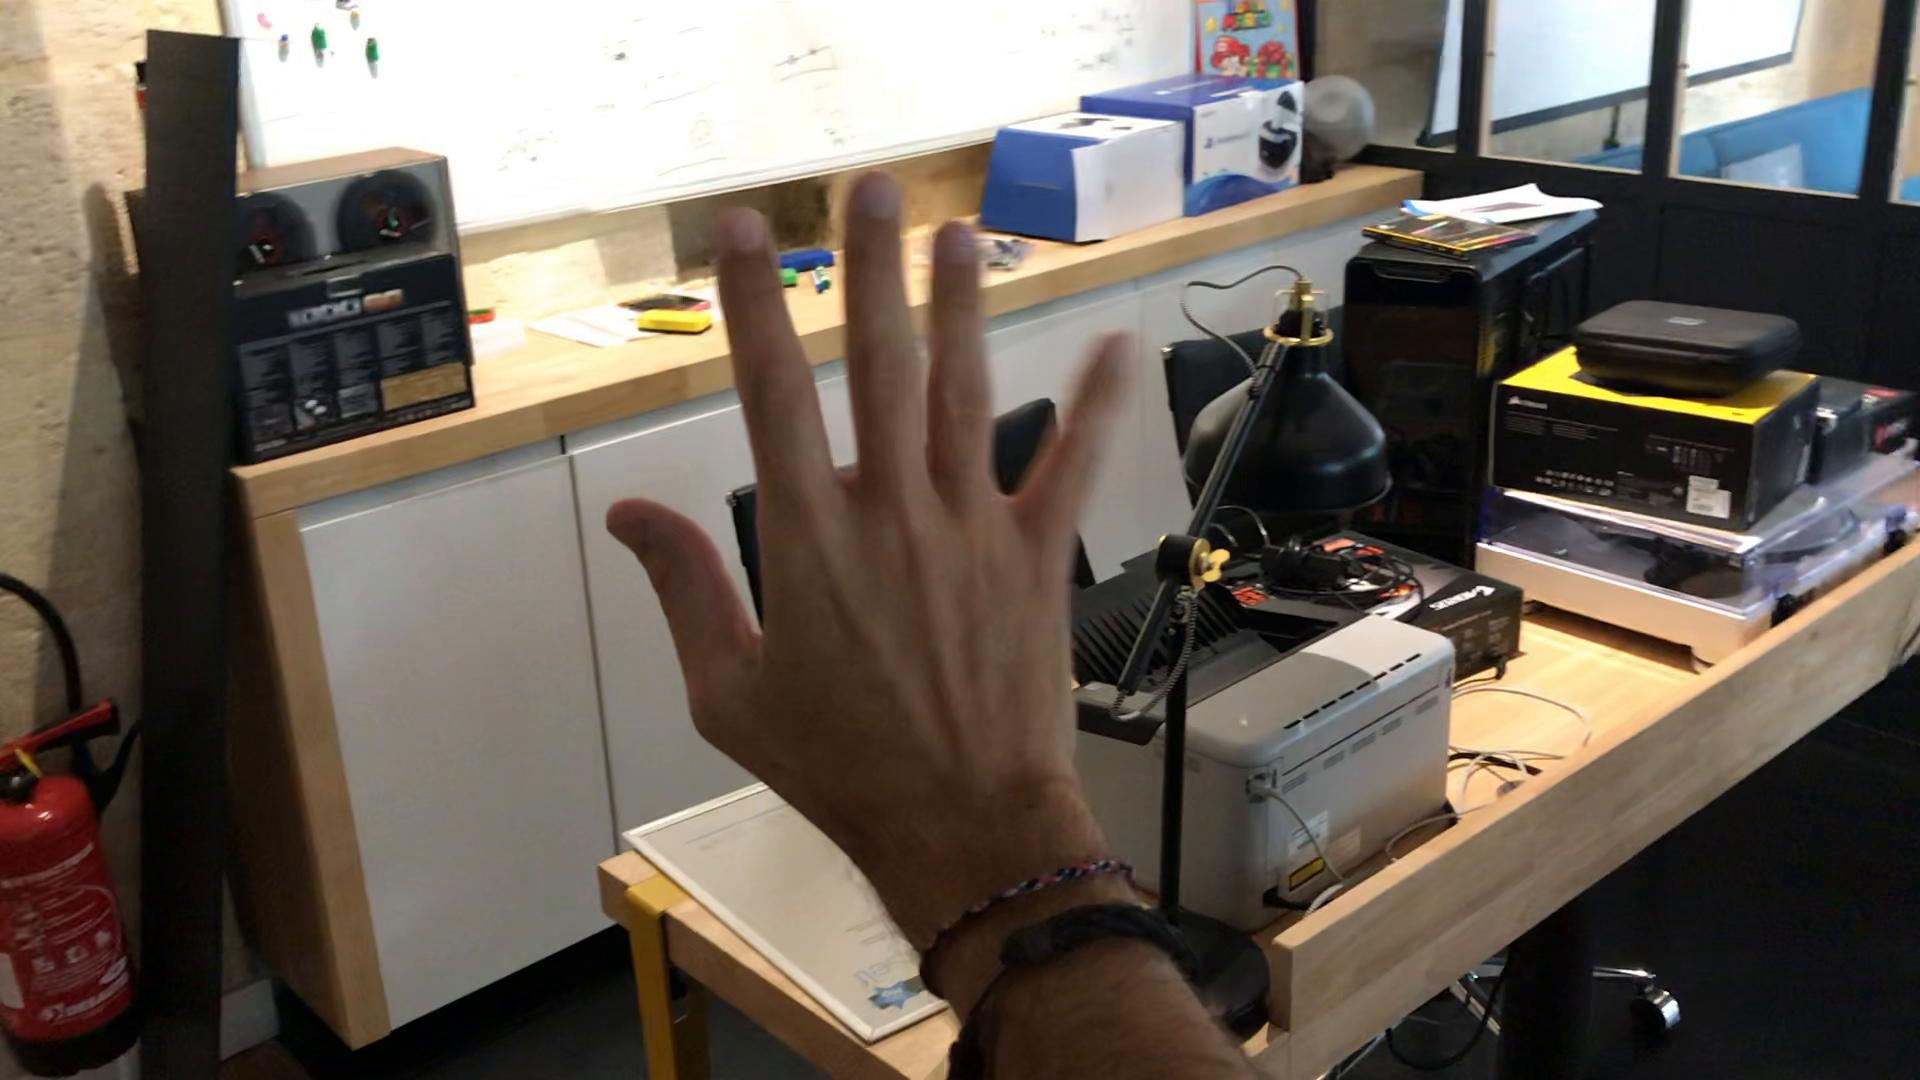hand: (603, 161, 1139, 835)
